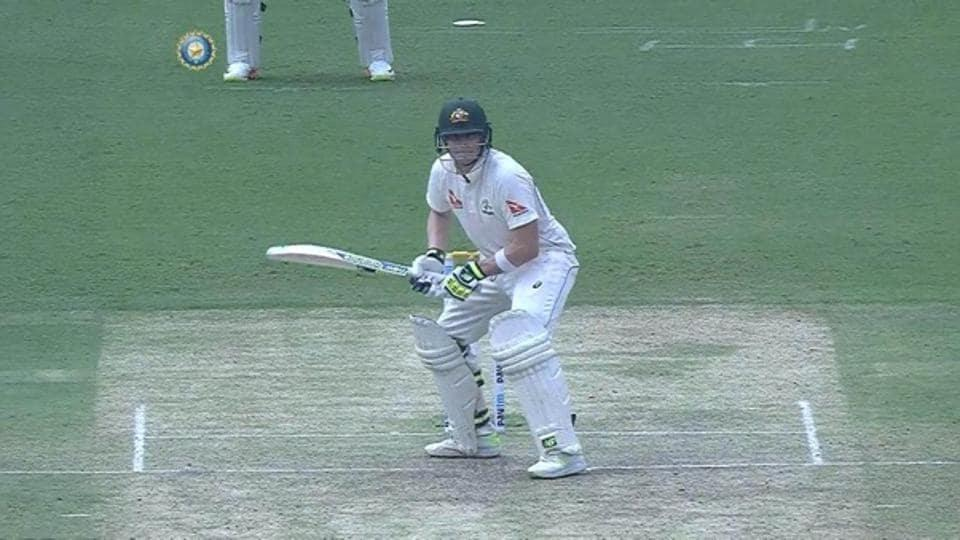batsman: (260, 100, 593, 481)
